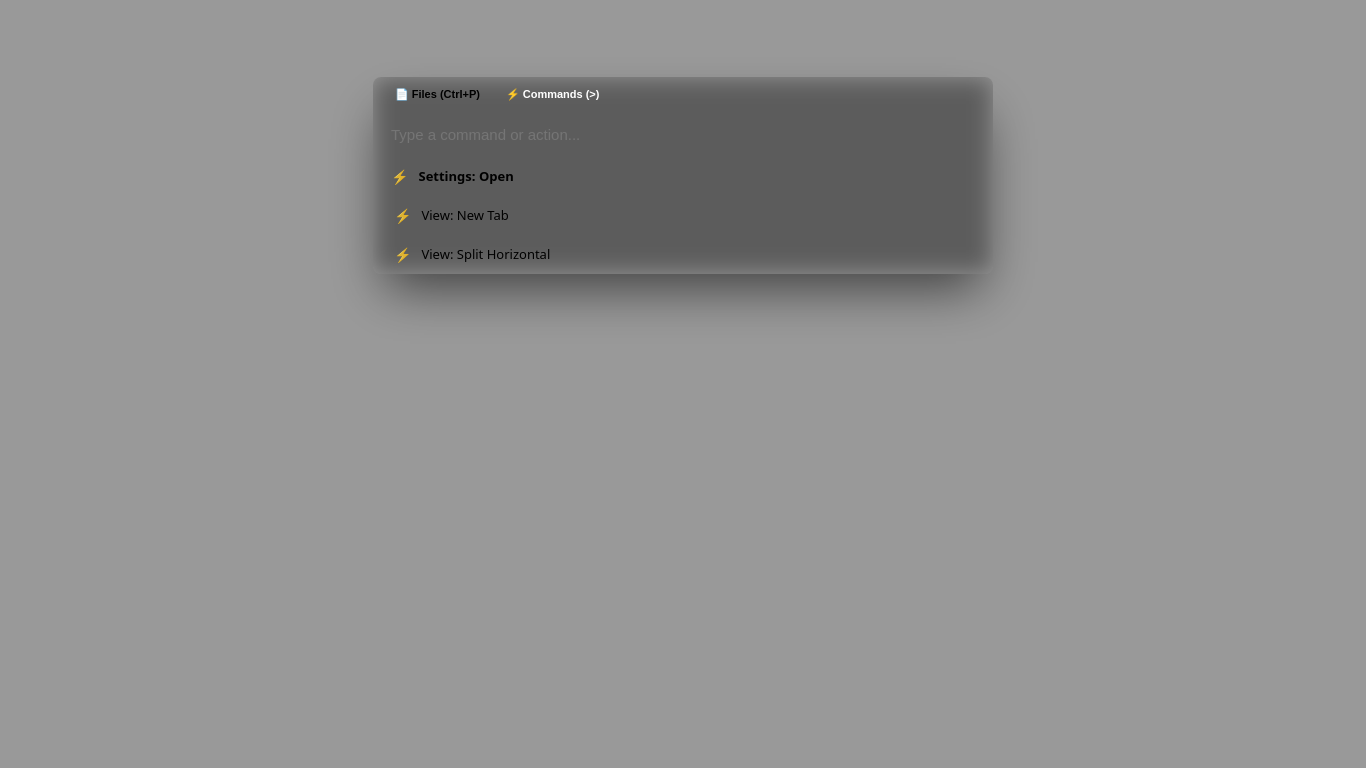
Test: CommandPalette › shows no results message when filter matches nothing
Type "zzzxxxxx" into the field with placeholder "Type a command or action..." at (683, 134), box [373, 112, 993, 157]
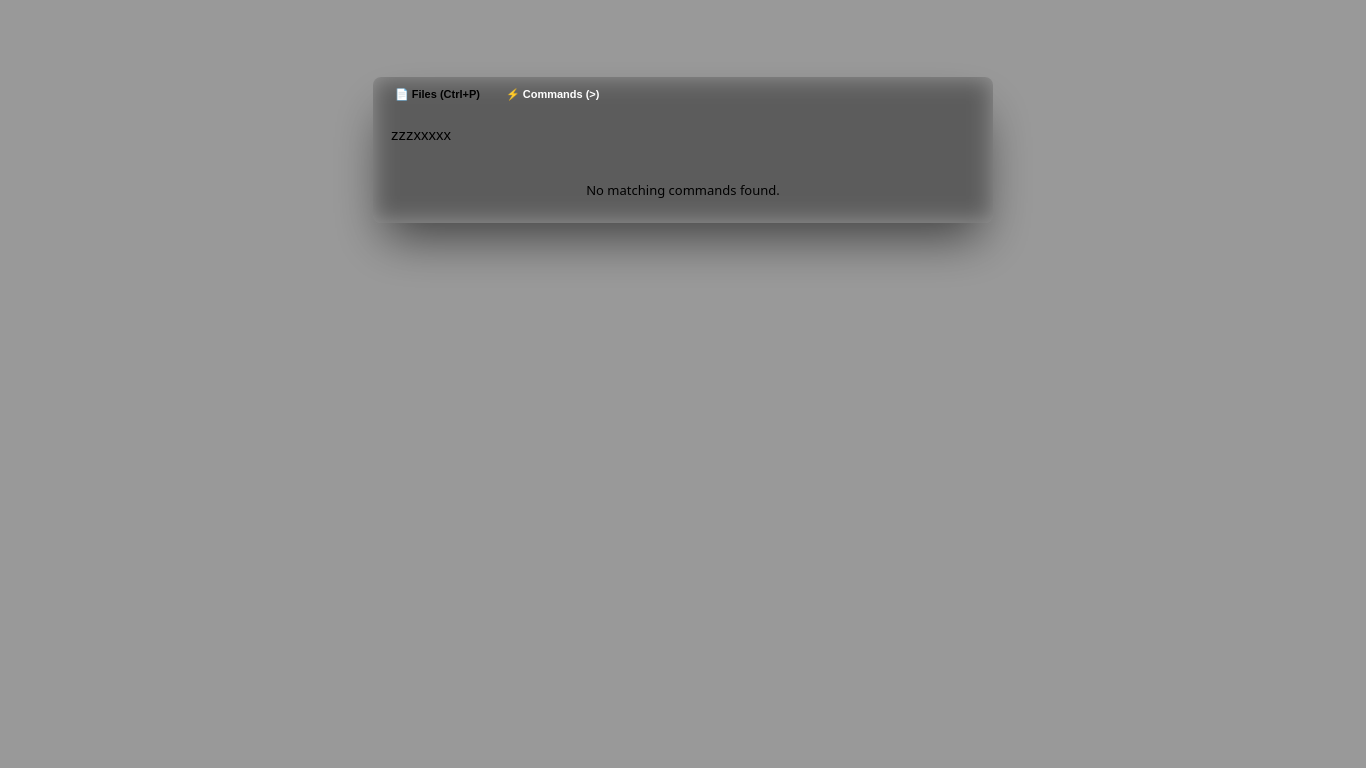
Check: the text "No matching commands found." is shown, box [586, 181, 780, 199]
